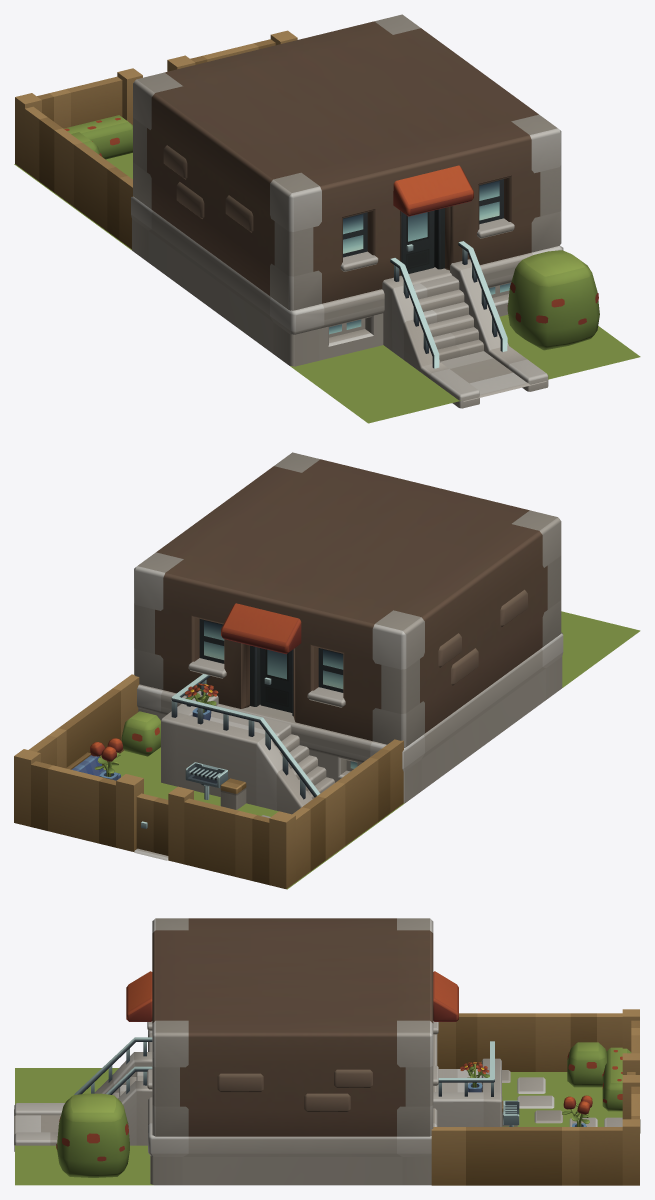
Rendered from appartment_type1_x4_ground_beige.fbx.
The picture shows the model from 3 angles, top to bottom: view 1: azimuth 30°, elevation 25°; view 2: azimuth 150°, elevation 25°; view 3: azimuth 270°, elevation 25°; orthographic projection. The views are drawn at different scales.
Parts seen in each view (by area): view 1: appartment_type1_x4_ground_beige, door_front_appartment_type1_x4_ground; view 2: appartment_type1_x4_ground_beige, door_back_appartment_type1_x4_ground, door_garden_appartment_type1_x4_ground; view 3: appartment_type1_x4_ground_beige.
Boxes of the visible parts, <box> form: appartment_type1_x4_ground_beige: <box>14,14,640,423</box>; door_front_appartment_type1_x4_ground: <box>402,210,434,273</box>; appartment_type1_x4_ground_beige: <box>14,452,640,889</box>; door_back_appartment_type1_x4_ground: <box>260,648,292,712</box>; door_garden_appartment_type1_x4_ground: <box>136,793,168,855</box>; appartment_type1_x4_ground_beige: <box>14,918,640,1185</box>.
Bounding box in the file's own units: 819 × 501 × 1806.
